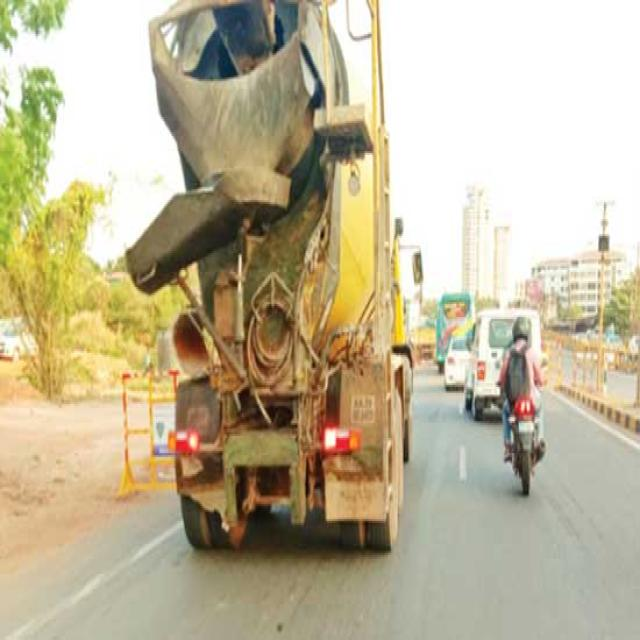motorcycle: (499, 316, 545, 494)
truck: (126, 0, 411, 549)
